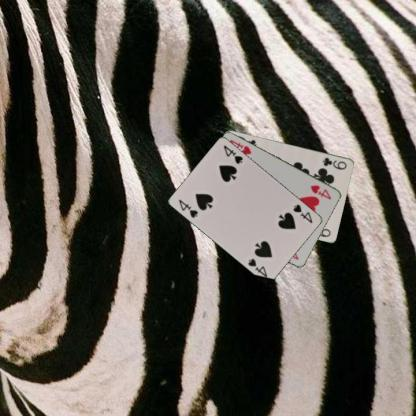4h: (308, 182, 333, 201)
4s: (290, 201, 314, 224), (176, 196, 200, 219)
9c: (320, 155, 348, 171)
